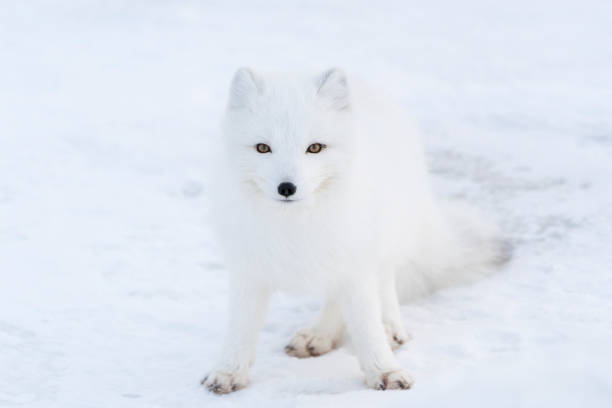arcticfox: (233, 108, 343, 216)
